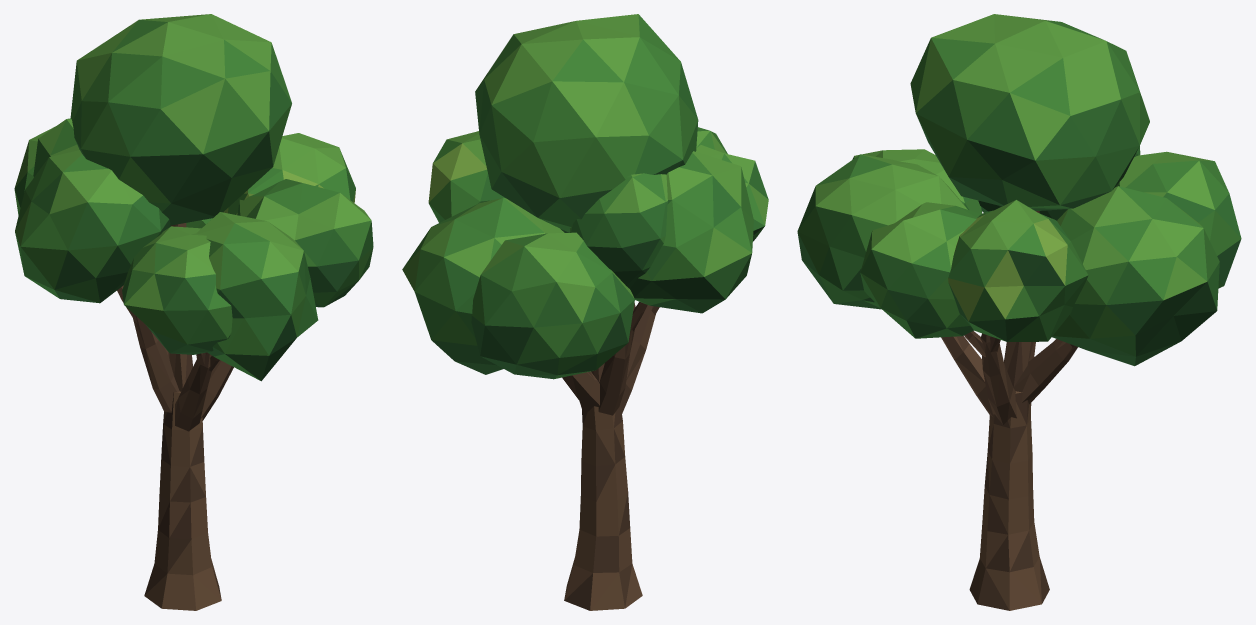
File: city-tree-tall-2.glb
3 views of the same model, side by side, from view 1: azimuth 30°, elevation 25°; view 2: azimuth 150°, elevation 25°; view 3: azimuth 270°, elevation 25° (orthographic). The views are drawn at different scales.
Visible parts, largest first — view 1: CityTreeTall2; view 2: CityTreeTall2; view 3: CityTreeTall2.
Boxes of the visible parts, left/top/right/bottom form: CityTreeTall2: left=14, top=14, right=373, bottom=610; CityTreeTall2: left=402, top=14, right=768, bottom=610; CityTreeTall2: left=797, top=14, right=1241, bottom=610.
Size of the model in its own units: 6.76 by 11.4 by 8.
